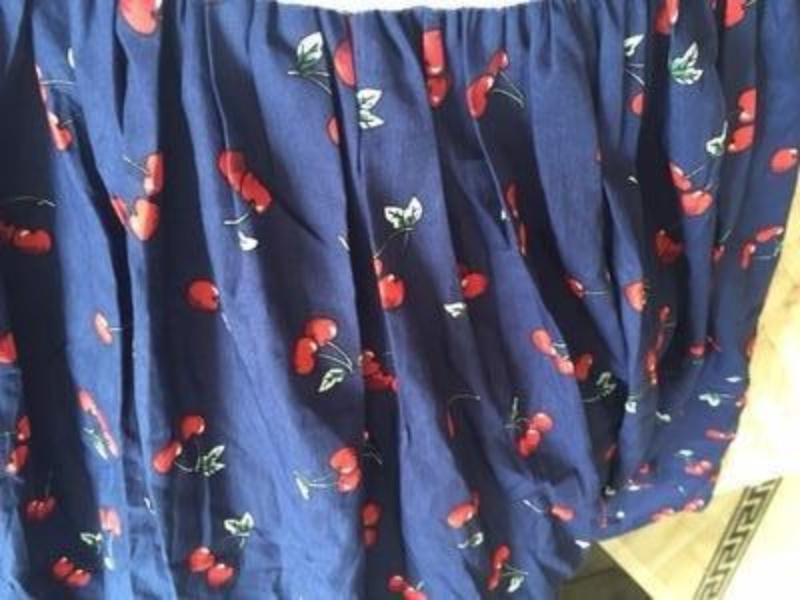skirt: (0, 0, 798, 598)
